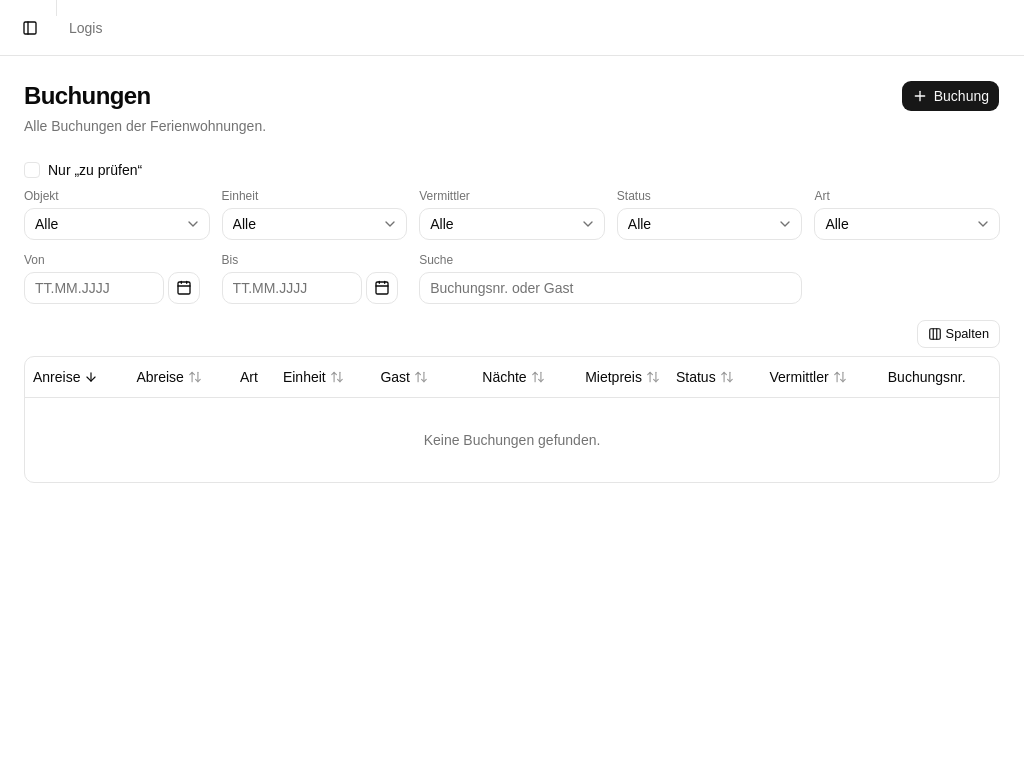
Bookings grid › opens the dialog with the button at the top right
Click the button "Buchung" at (950, 96), box x1=901 y1=80 x2=1000 y2=112
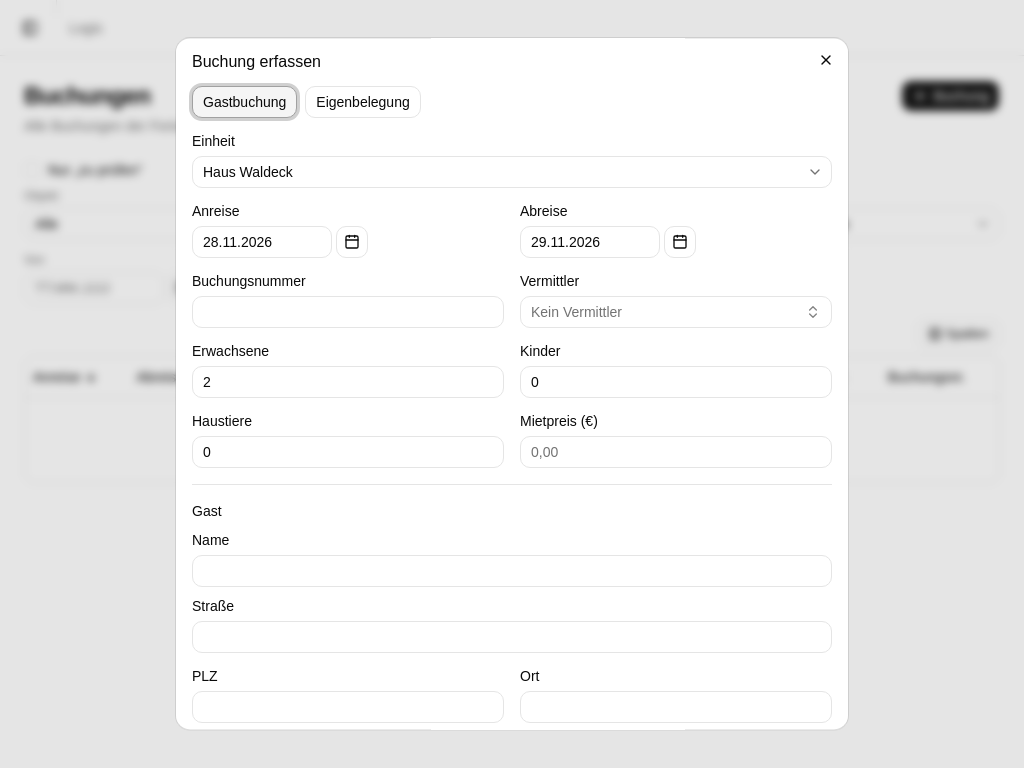
Expected: the heading "Buchung erfassen" is shown, x1=192 y1=53 x2=321 y2=70
